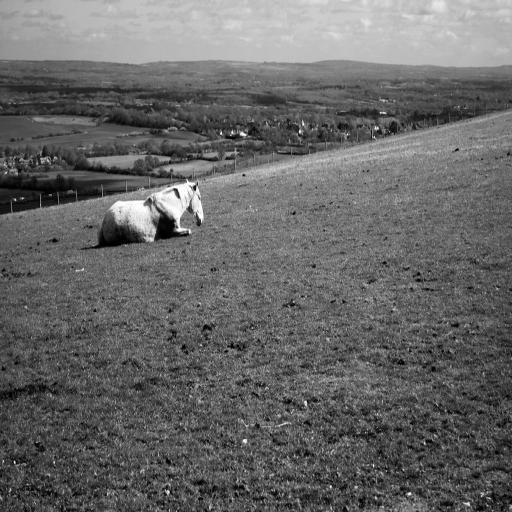horse: (98, 178, 204, 244)
